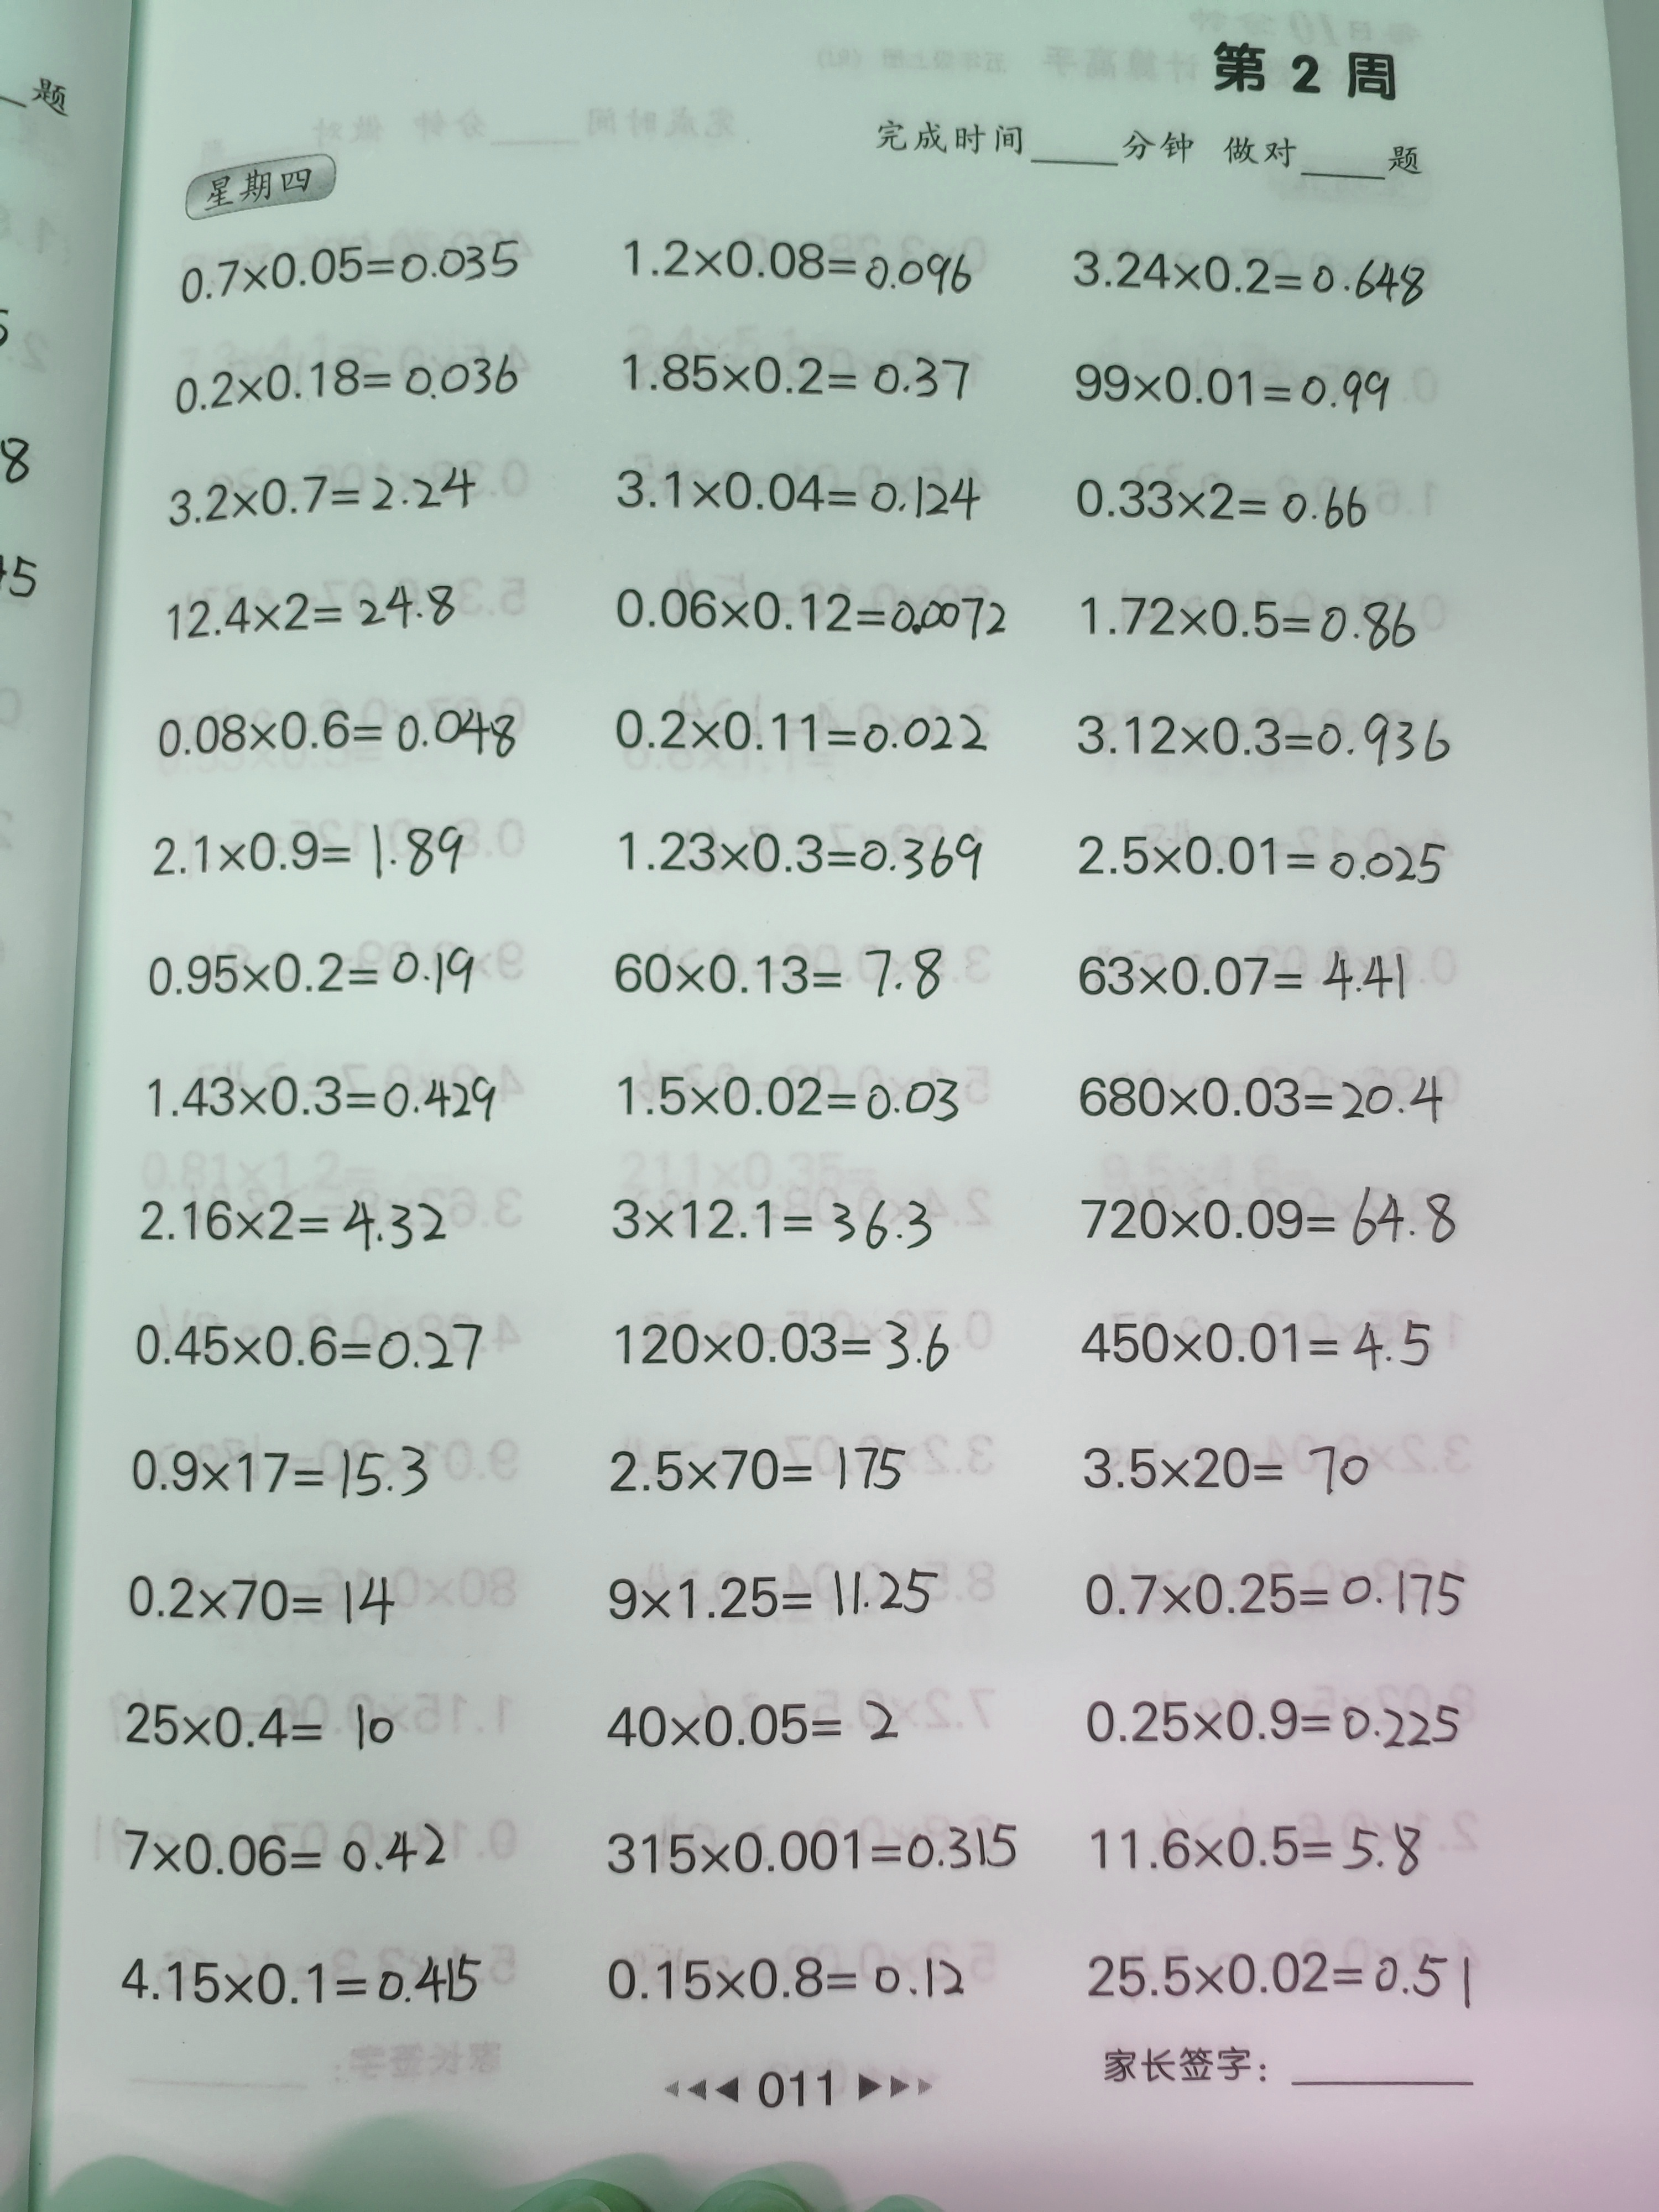equation: (1060, 1158, 1474, 1282), (598, 1806, 1037, 1907), (1073, 1541, 1481, 1648), (1068, 216, 1439, 329), (605, 798, 999, 904), (1042, 1042, 1460, 1137), (1061, 815, 1469, 909), (1068, 1681, 1480, 1771), (105, 1935, 498, 2029), (167, 223, 525, 324), (603, 577, 1023, 662), (606, 1045, 962, 1144), (112, 1306, 505, 1395), (131, 688, 518, 777), (606, 331, 978, 423), (1073, 575, 1429, 671), (1073, 697, 1453, 786), (598, 1416, 913, 1522), (606, 930, 955, 1026), (141, 1055, 509, 1146), (124, 935, 498, 1024), (1075, 1806, 1446, 1895), (612, 223, 990, 310), (1068, 1414, 1373, 1522), (110, 1815, 484, 1902), (582, 1946, 979, 2027), (598, 1306, 960, 1395), (1075, 1942, 1485, 2020), (591, 1670, 931, 1764), (106, 1555, 415, 1658), (612, 456, 983, 542), (592, 700, 1006, 777), (1060, 935, 1434, 1019), (1079, 1301, 1452, 1385), (1066, 348, 1405, 437), (1066, 455, 1378, 550), (162, 348, 525, 430), (141, 812, 479, 899), (594, 1184, 948, 1266), (599, 1561, 950, 1642), (124, 1433, 451, 1519), (112, 1181, 444, 1264), (157, 460, 486, 543), (141, 573, 467, 651), (110, 1686, 408, 1770)
